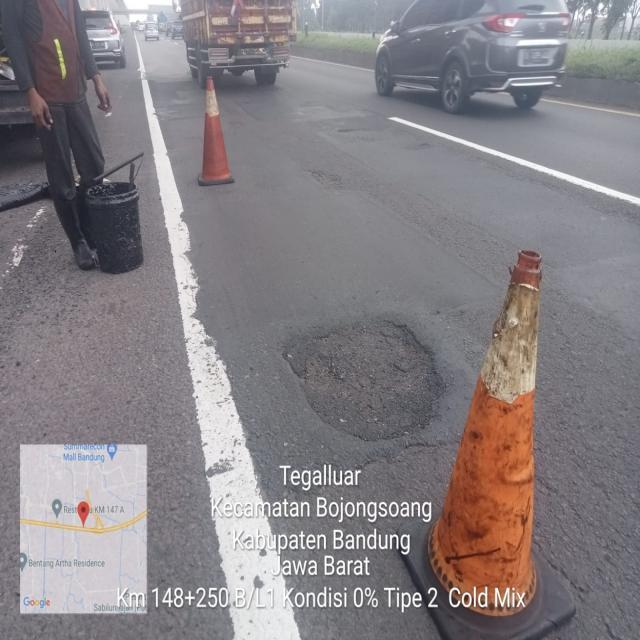Buraco: (279, 317, 447, 445)
